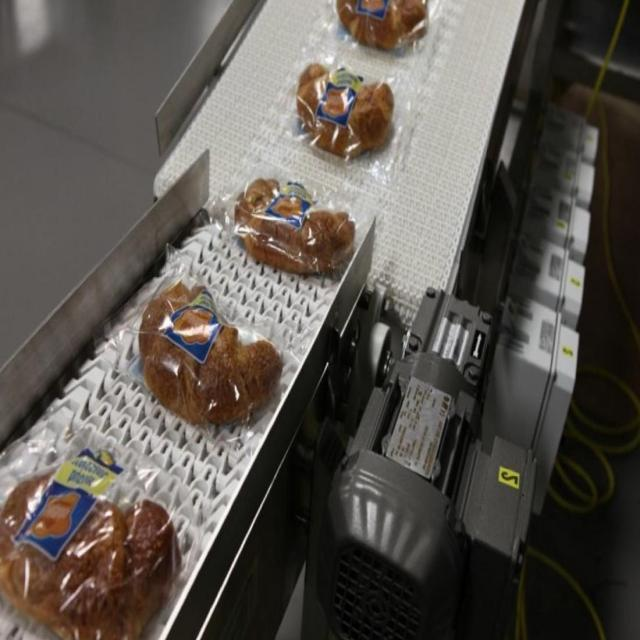food: (1, 444, 182, 638), (136, 276, 282, 428), (232, 175, 356, 278), (294, 61, 394, 162), (333, 0, 429, 53)
